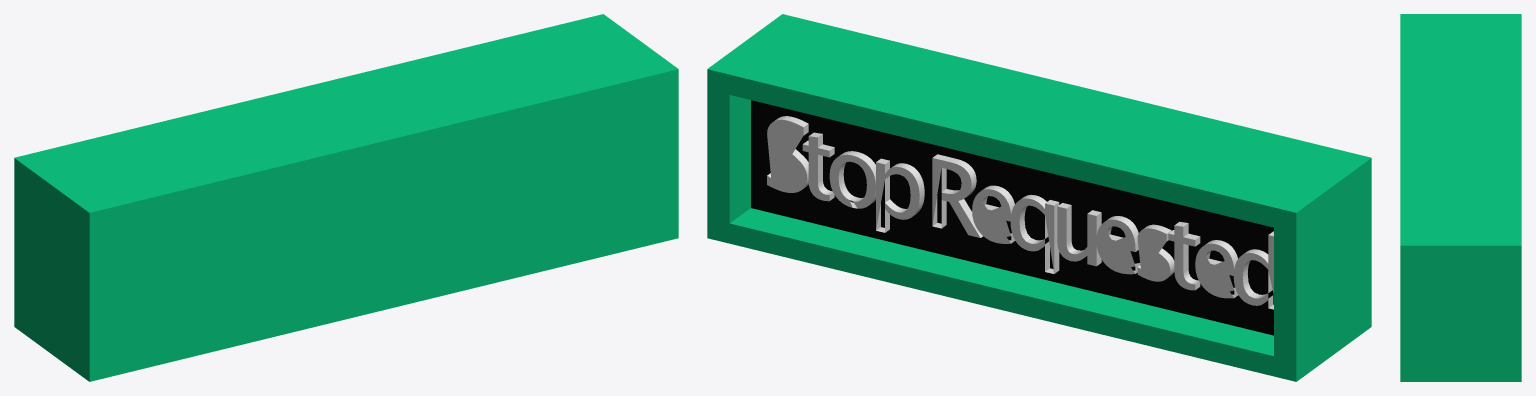
The model's file is BUS ASSETS_STOP REQUESTED.fbx.
The picture shows the model from 3 angles, left to right: view 1: azimuth 30°, elevation 25°; view 2: azimuth 150°, elevation 25°; view 3: azimuth 270°, elevation 25°; orthographic projection. The views are drawn at different scales.
Visible parts, largest first — view 1: Stop_Requested_Box; view 2: Stop_Requested_Box, Stop_Requested_Sign, Stop_Requested_Words; view 3: Stop_Requested_Box.
Part boxes in pixels (x1=…): Stop_Requested_Box: x1=14, y1=14, x2=678, y2=381; Stop_Requested_Box: x1=707, y1=14, x2=1371, y2=381; Stop_Requested_Sign: x1=751, y1=100, x2=1273, y2=335; Stop_Requested_Words: x1=767, y1=116, x2=1273, y2=309; Stop_Requested_Box: x1=1400, y1=14, x2=1521, y2=381.
Size of the model in its own units: 14.14 by 3.88 by 3.13.
